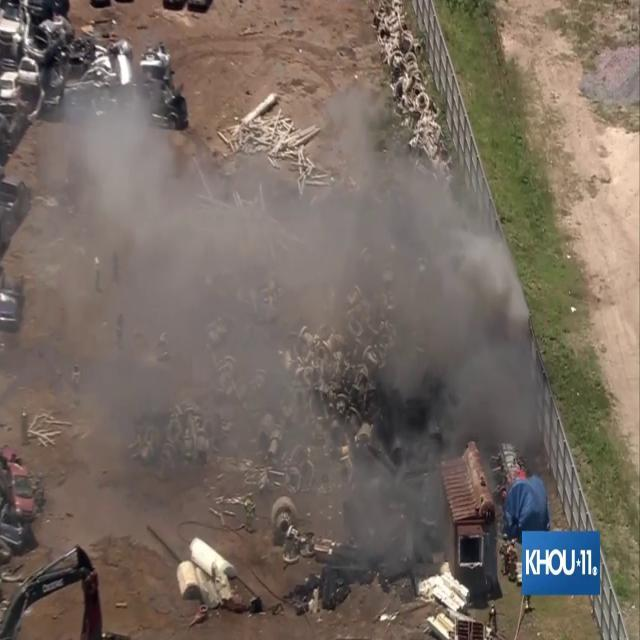Smoke: (8, 48, 548, 540)
